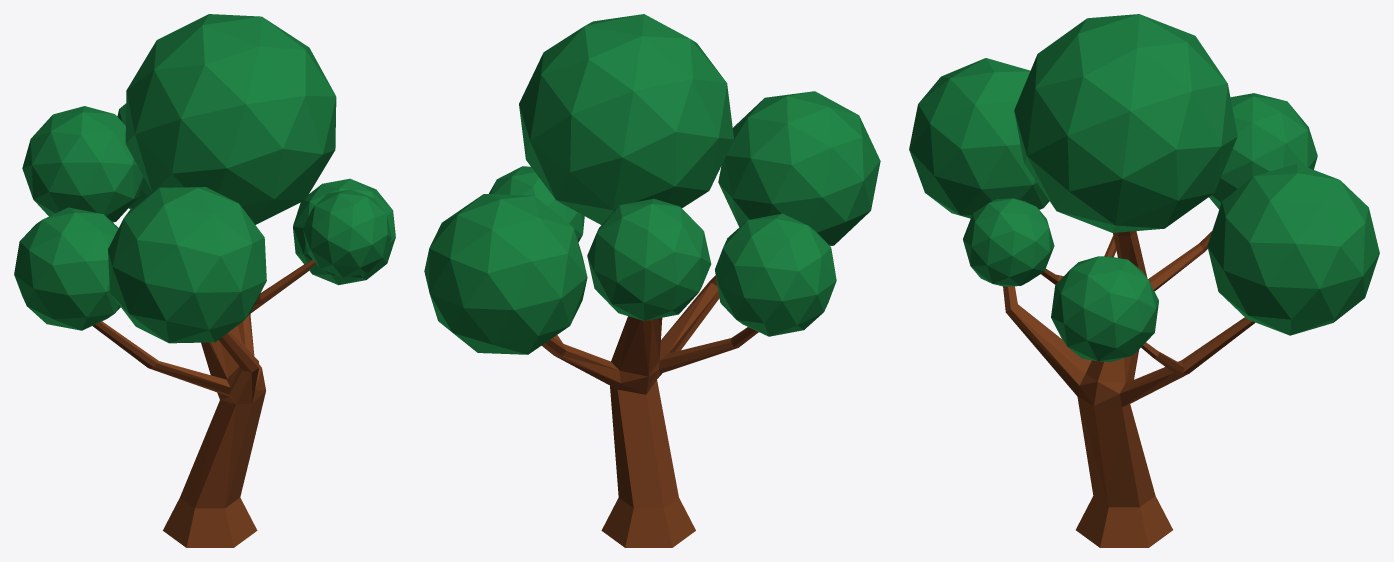
3 renders of one model, left to right at view 1: azimuth 30°, elevation 25°; view 2: azimuth 150°, elevation 25°; view 3: azimuth 270°, elevation 25°, orthographic. The views are drawn at different scales.
Visible parts, largest first — view 1: Tree01; view 2: Tree01; view 3: Tree01.
Part boxes in pixels (x1=…): Tree01: x1=14, y1=14, x2=395, y2=547; Tree01: x1=424, y1=14, x2=880, y2=547; Tree01: x1=909, y1=14, x2=1379, y2=547.
Bounding box in the file's own units: 585 × 793 × 656.
Materials: 1 (1 with a texture image).
